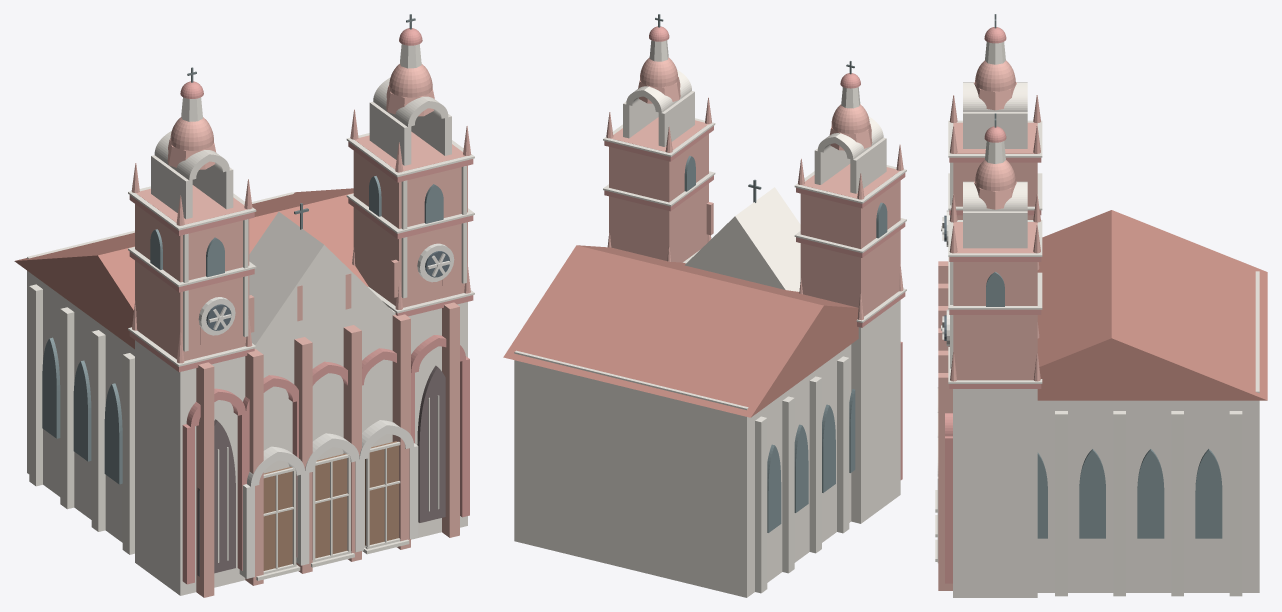
File: iglesia-san-nicolas.glb
3 views of the same model, side by side, from view 1: azimuth 30°, elevation 25°; view 2: azimuth 150°, elevation 25°; view 3: azimuth 270°, elevation 25° (orthographic). The views are drawn at different scales.
Visible parts, largest first — view 1: edificio · mat-f0e7d7, edificio · mat-d98274, edificio · mat-eee7d6, edificio · mat-c96862, edificio · mat-9f4e42, edificio · mat-72462f, edificio · mat-42565b, edificio · mat-f4eee1, edificio · mat-403435, edificio · mat-ede9dc, edificio · mat-28333b; view 2: edificio · mat-f0e7d7, edificio · mat-9f4e42, edificio · mat-d98274, edificio · mat-eee7d6, edificio · mat-42565b, edificio · mat-c96862; view 3: edificio · mat-f0e7d7, edificio · mat-9f4e42, edificio · mat-d98274, edificio · mat-eee7d6, edificio · mat-42565b, edificio · mat-c96862.
Part boxes in pixels (bbox=[...]): edificio · mat-f0e7d7: bbox=[27, 77, 467, 595]; edificio · mat-d98274: bbox=[131, 64, 471, 597]; edificio · mat-eee7d6: bbox=[29, 44, 474, 580]; edificio · mat-c96862: bbox=[129, 28, 473, 584]; edificio · mat-9f4e42: bbox=[14, 188, 368, 349]; edificio · mat-72462f: bbox=[263, 441, 398, 570]; edificio · mat-42565b: bbox=[42, 176, 443, 484]; edificio · mat-f4eee1: bbox=[239, 420, 418, 578]; edificio · mat-403435: bbox=[197, 365, 445, 576]; edificio · mat-ede9dc: bbox=[198, 243, 454, 335]; edificio · mat-28333b: bbox=[206, 251, 450, 330]; edificio · mat-f0e7d7: bbox=[514, 69, 900, 597]; edificio · mat-9f4e42: bbox=[503, 245, 858, 417]; edificio · mat-d98274: bbox=[606, 57, 903, 320]; edificio · mat-eee7d6: bbox=[603, 40, 906, 593]; edificio · mat-42565b: bbox=[684, 156, 887, 532]; edificio · mat-c96862: bbox=[604, 26, 905, 479]; edificio · mat-f0e7d7: bbox=[953, 82, 1259, 597]; edificio · mat-9f4e42: bbox=[1037, 210, 1267, 400]; edificio · mat-d98274: bbox=[938, 60, 1040, 590]; edificio · mat-eee7d6: bbox=[935, 42, 1242, 596]; edificio · mat-42565b: bbox=[986, 272, 1222, 538]; edificio · mat-c96862: bbox=[945, 27, 1041, 583].
Size of the model in its own units: 12.06 by 19.57 by 12.57.
